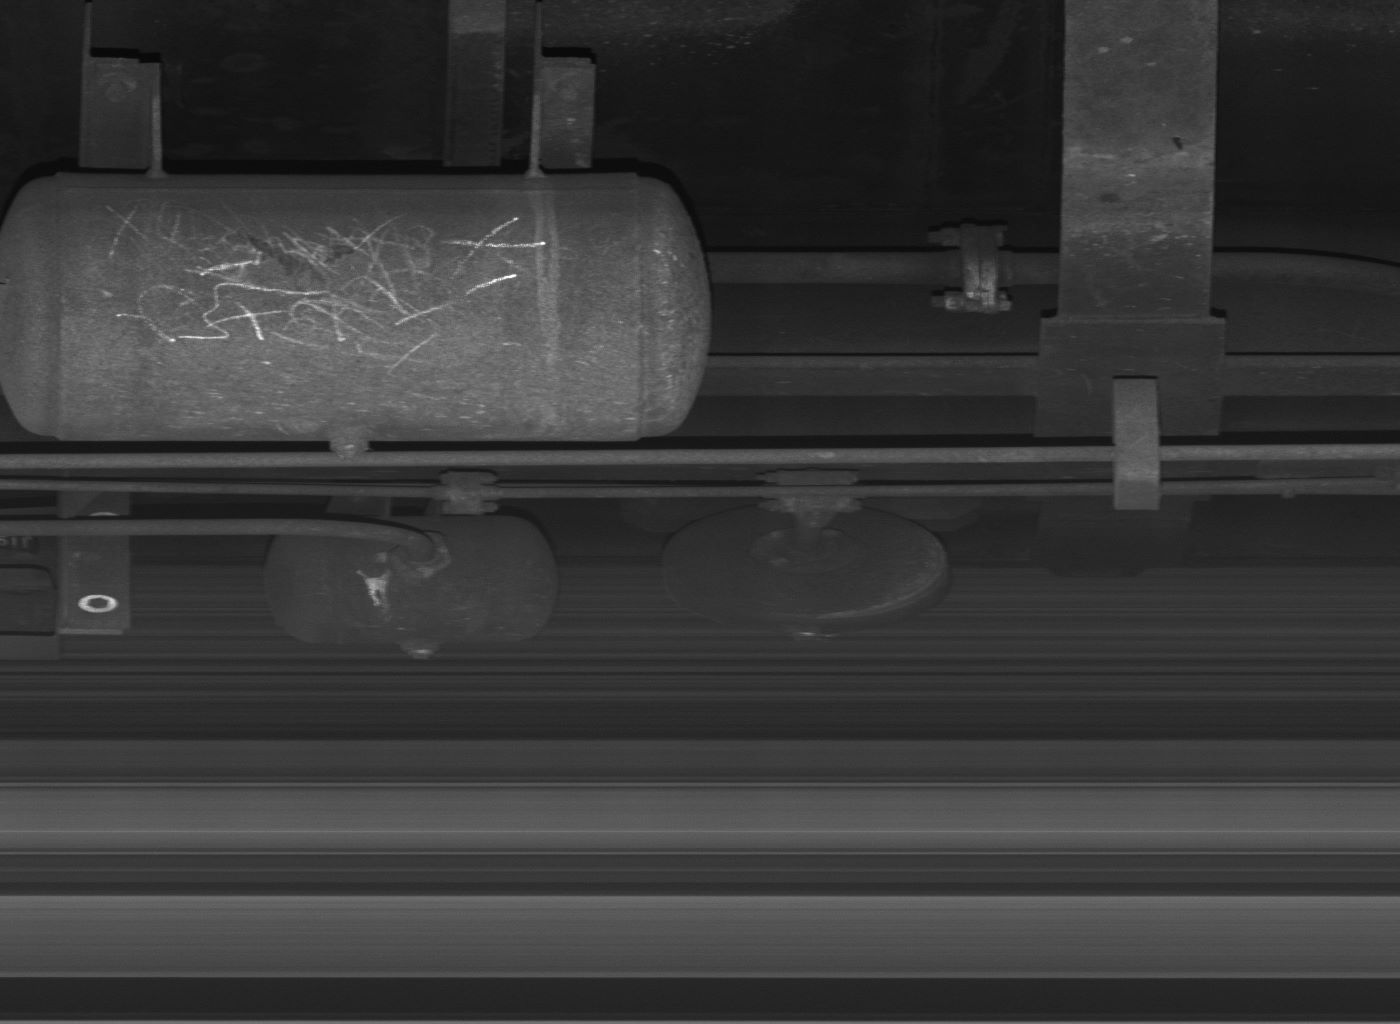normal: (1113, 378, 1161, 512)
